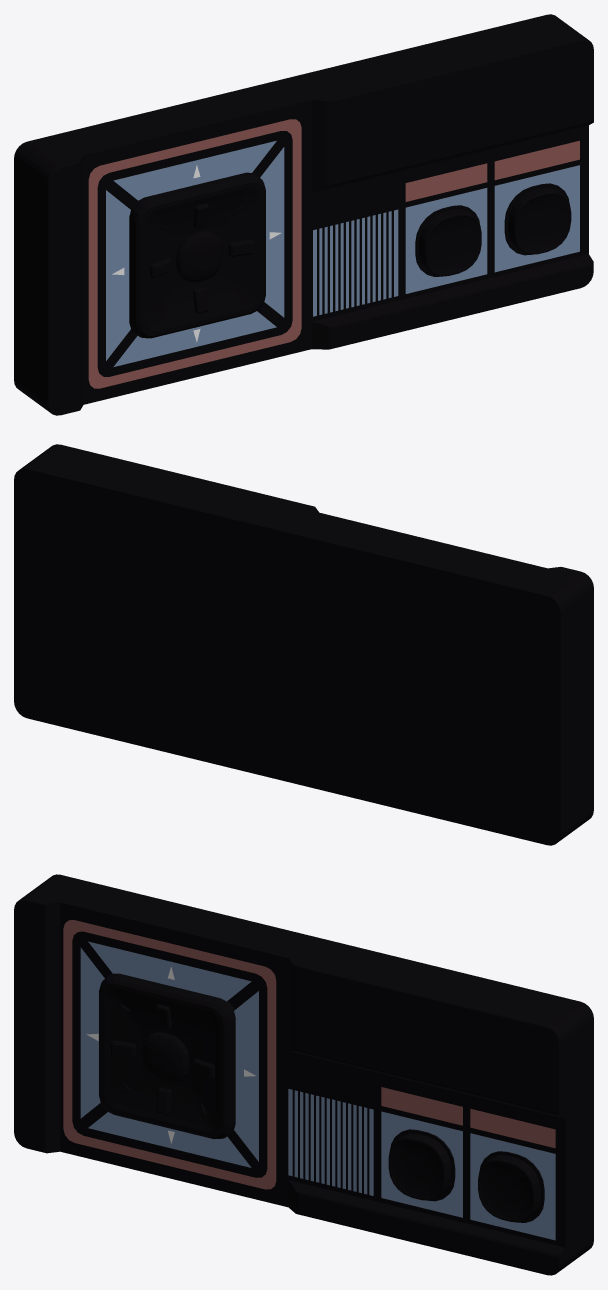
The model's file is pad-mastersystem.glb.
3 renders of one model, top to bottom at view 1: azimuth 30°, elevation 25°; view 2: azimuth 150°, elevation 25°; view 3: azimuth 330°, elevation 25°, orthographic.
Visible parts, largest first — view 1: Cube; view 2: Cube; view 3: Cube.
Part boxes in pixels (x1,y1,x2,y2): Cube: (14, 14, 593, 415); Cube: (14, 444, 593, 845); Cube: (14, 874, 593, 1275).
Bounding box in the file's own units: 9.29 × 4.05 × 1.12.
1 material, 1 textured.
